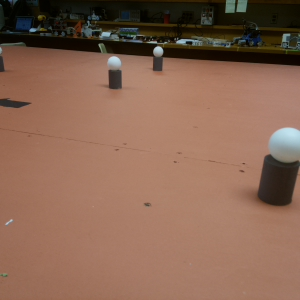obstacle: (263, 126, 297, 208), (107, 56, 121, 88), (153, 46, 162, 71)
